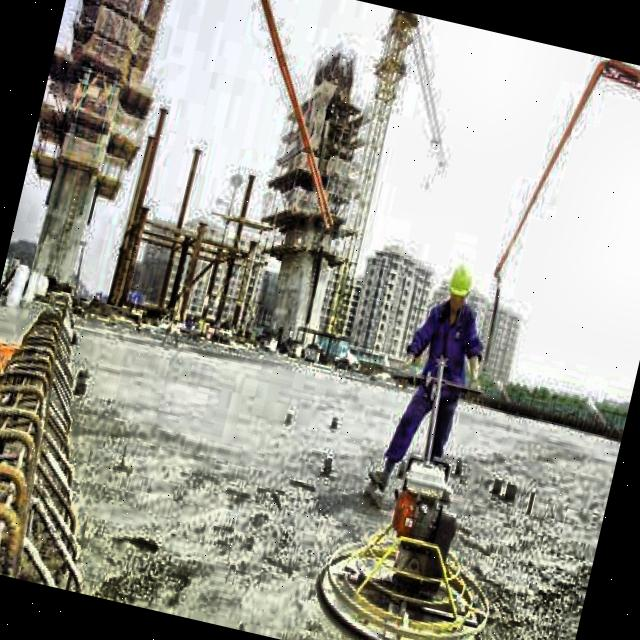helmet: (438, 260, 480, 317)
